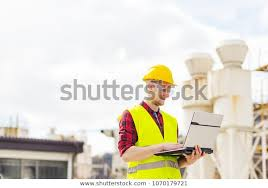Person_wearing_helmet: (142, 60, 177, 84)
